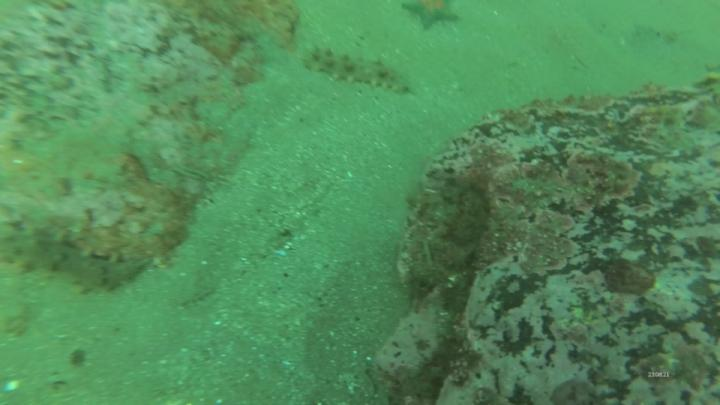holothurian: (1, 232, 152, 298), (300, 46, 410, 97)
starfish: (402, 1, 463, 34)
